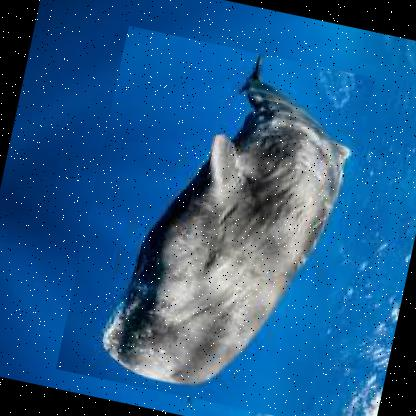sperm_whale: (54, 23, 377, 415)
